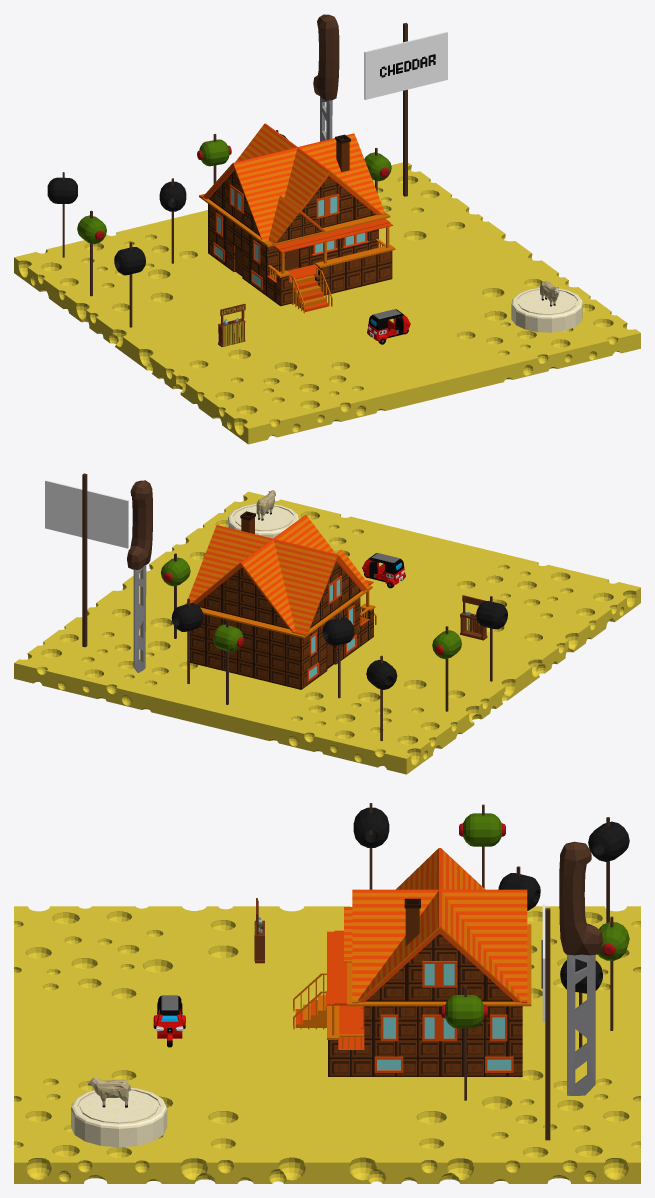
The picture shows the model from 3 angles, top to bottom: view 1: azimuth 30°, elevation 25°; view 2: azimuth 150°, elevation 25°; view 3: azimuth 270°, elevation 25°; orthographic projection. The views are drawn at different scales.
Parts seen in each view (by area): view 1: Cube.022, Cube, Cube.023, Cylinder.016, Cube.024, VEHICLES_TUC_TUC, Sphere.017, OBJRANDOM_LEMONADE_STAND, Sphere.016, Sphere.020, Sphere.018, Sphere.022 (+1 smaller); view 2: Cube.022, Cube, Cube.023, Cube.024, Cylinder.016, VEHICLES_TUC_TUC, Sphere.017, Sphere.020, Sphere.021, Sphere.016, Sphere.018, Sphere.022 (+2 smaller); view 3: Cube.022, Cube, Cube.024, Cylinder.016, Cube.023, Sphere.019, Sphere.016, Sphere.018, Sphere.017, VEHICLES_TUC_TUC, Sphere.022, Sphere.020 (+3 smaller).
Boxes of the visible parts, <box> form: Cube.022: <box>14,162,640,444</box>; Cube: <box>199,123,395,313</box>; Cube.023: <box>364,23,447,196</box>; Cylinder.016: <box>511,288,582,332</box>; Cube.024: <box>313,14,339,141</box>; VEHICLES_TUC_TUC: <box>367,309,410,344</box>; Sphere.017: <box>114,242,145,327</box>; OBJRANDOM_LEMONADE_STAND: <box>218,303,245,346</box>; Sphere.016: <box>47,172,77,257</box>; Sphere.020: <box>159,178,186,263</box>; Sphere.018: <box>77,210,106,296</box>; Sphere.022: <box>197,134,231,183</box>; Cube.022: <box>14,491,640,774</box>; Cube: <box>184,511,376,689</box>; Cube.023: <box>45,473,128,647</box>; Cube.024: <box>127,480,152,672</box>; Cylinder.016: <box>228,504,298,538</box>; VEHICLES_TUC_TUC: <box>362,553,405,588</box>; Sphere.017: <box>476,596,507,681</box>; Sphere.020: <box>322,612,354,698</box>; Sphere.021: <box>171,598,203,683</box>; Sphere.016: <box>366,655,397,741</box>; Sphere.018: <box>432,626,461,711</box>; Sphere.022: <box>212,619,244,704</box>; Cube.022: <box>14,906,640,1183</box>; Cube: <box>293,848,531,1076</box>; Cube.024: <box>559,841,602,1095</box>; Cylinder.016: <box>71,1087,167,1147</box>; Cube.023: <box>541,904,550,1140</box>; Sphere.019: <box>441,986,487,1100</box>; Sphere.016: <box>588,817,629,922</box>; Sphere.018: <box>459,804,505,888</box>; Sphere.017: <box>353,803,389,889</box>; VEHICLES_TUC_TUC: <box>153,995,185,1047</box>; Sphere.022: <box>598,916,629,1030</box>; Sphere.020: <box>498,866,540,910</box>.
Size of the model in its own units: 3917 by 2030 by 4000.
40 materials, 5 textured.
